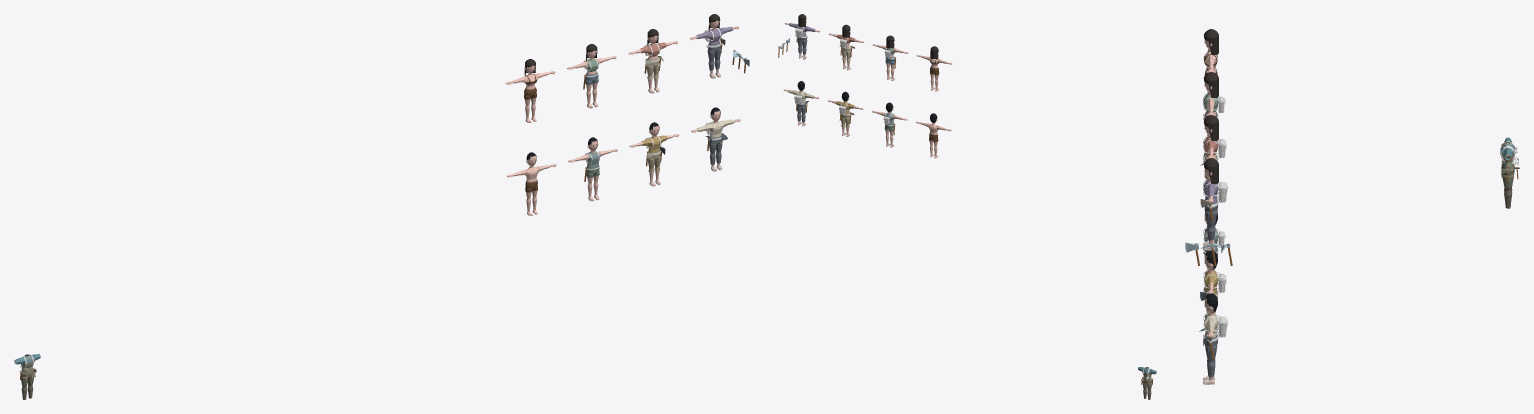
File: tüm karakterler .fbx
3 renders of one model, left to right at view 1: azimuth 30°, elevation 25°; view 2: azimuth 150°, elevation 25°; view 3: azimuth 270°, elevation 25°, orthographic. The views are drawn at different scales.
Visible parts, largest first — view 1: Erkek_Seviye_1_Gövdesi; view 2: no part large enough to name; view 3: Erkek_Seviye_4_Düz_Kesim_Uzun_Pantolon, Kadın_Seviye_4_Düz_Kesim_Uzun_Pantolon.
Boxes of the visible parts, left/top/right/bottom form: Erkek_Seviye_1_Gövdesi: left=507, top=155, right=556, bottom=215; Erkek_Seviye_4_Düz_Kesim_Uzun_Pantolon: left=1205, top=335, right=1217, bottom=377; Kadın_Seviye_4_Düz_Kesim_Uzun_Pantolon: left=1204, top=200, right=1217, bottom=240.
Size of the model in its own units: 20.39 by 9.89 by 6.58.
